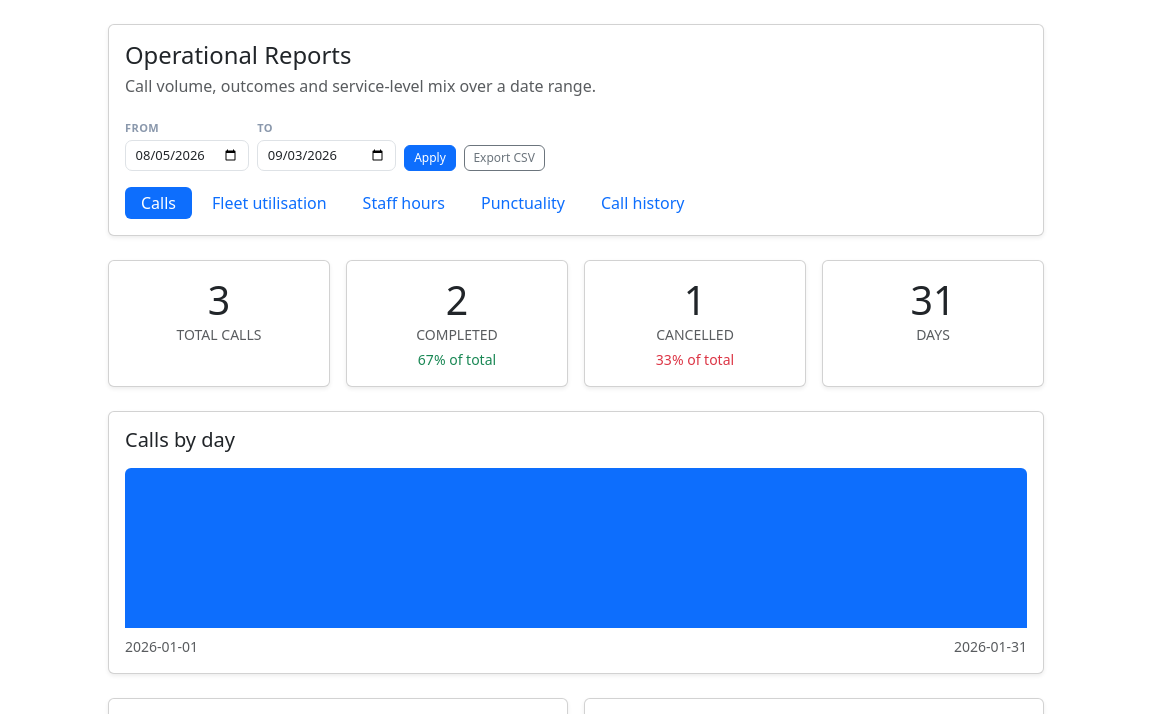
Test: ReportsPage › switches to staff hours and lists employees
The width and height of the screenshot is (1152, 714).
Expected: the text "Total calls" is shown, [176,325,261,344]
Click the button "Staff hours" at [404, 203], box [347,187,461,219]
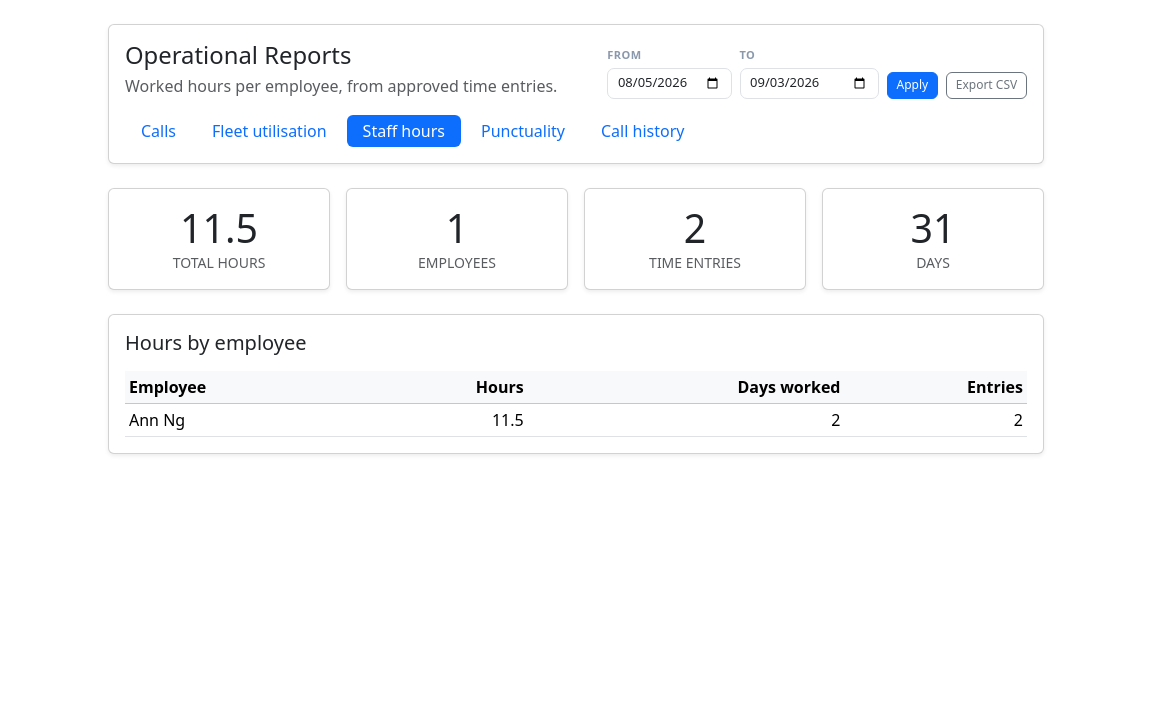
Expected: the link "Export CSV" is shown, [946,72,1027,99]
Result: the text "Total hours" is shown at [173,253,265,272]
Result: the text "Ann Ng" is shown at [125,403,368,436]
